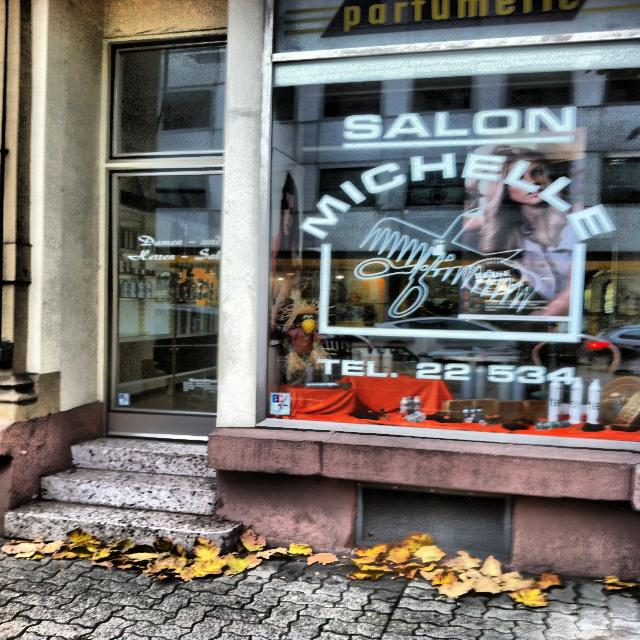escada: (3, 439, 238, 554)
